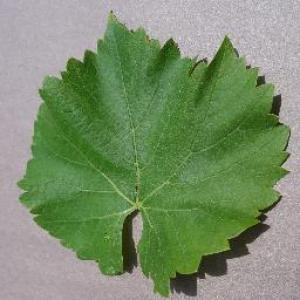Folha: (17, 8, 290, 298)
